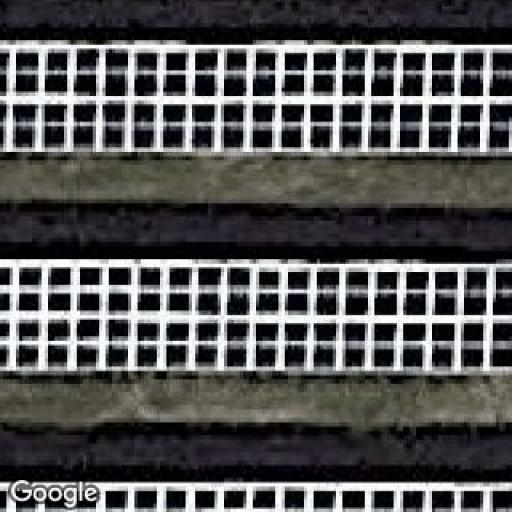solar-panel: (0, 42, 512, 158), (0, 261, 512, 373), (0, 485, 512, 512)
